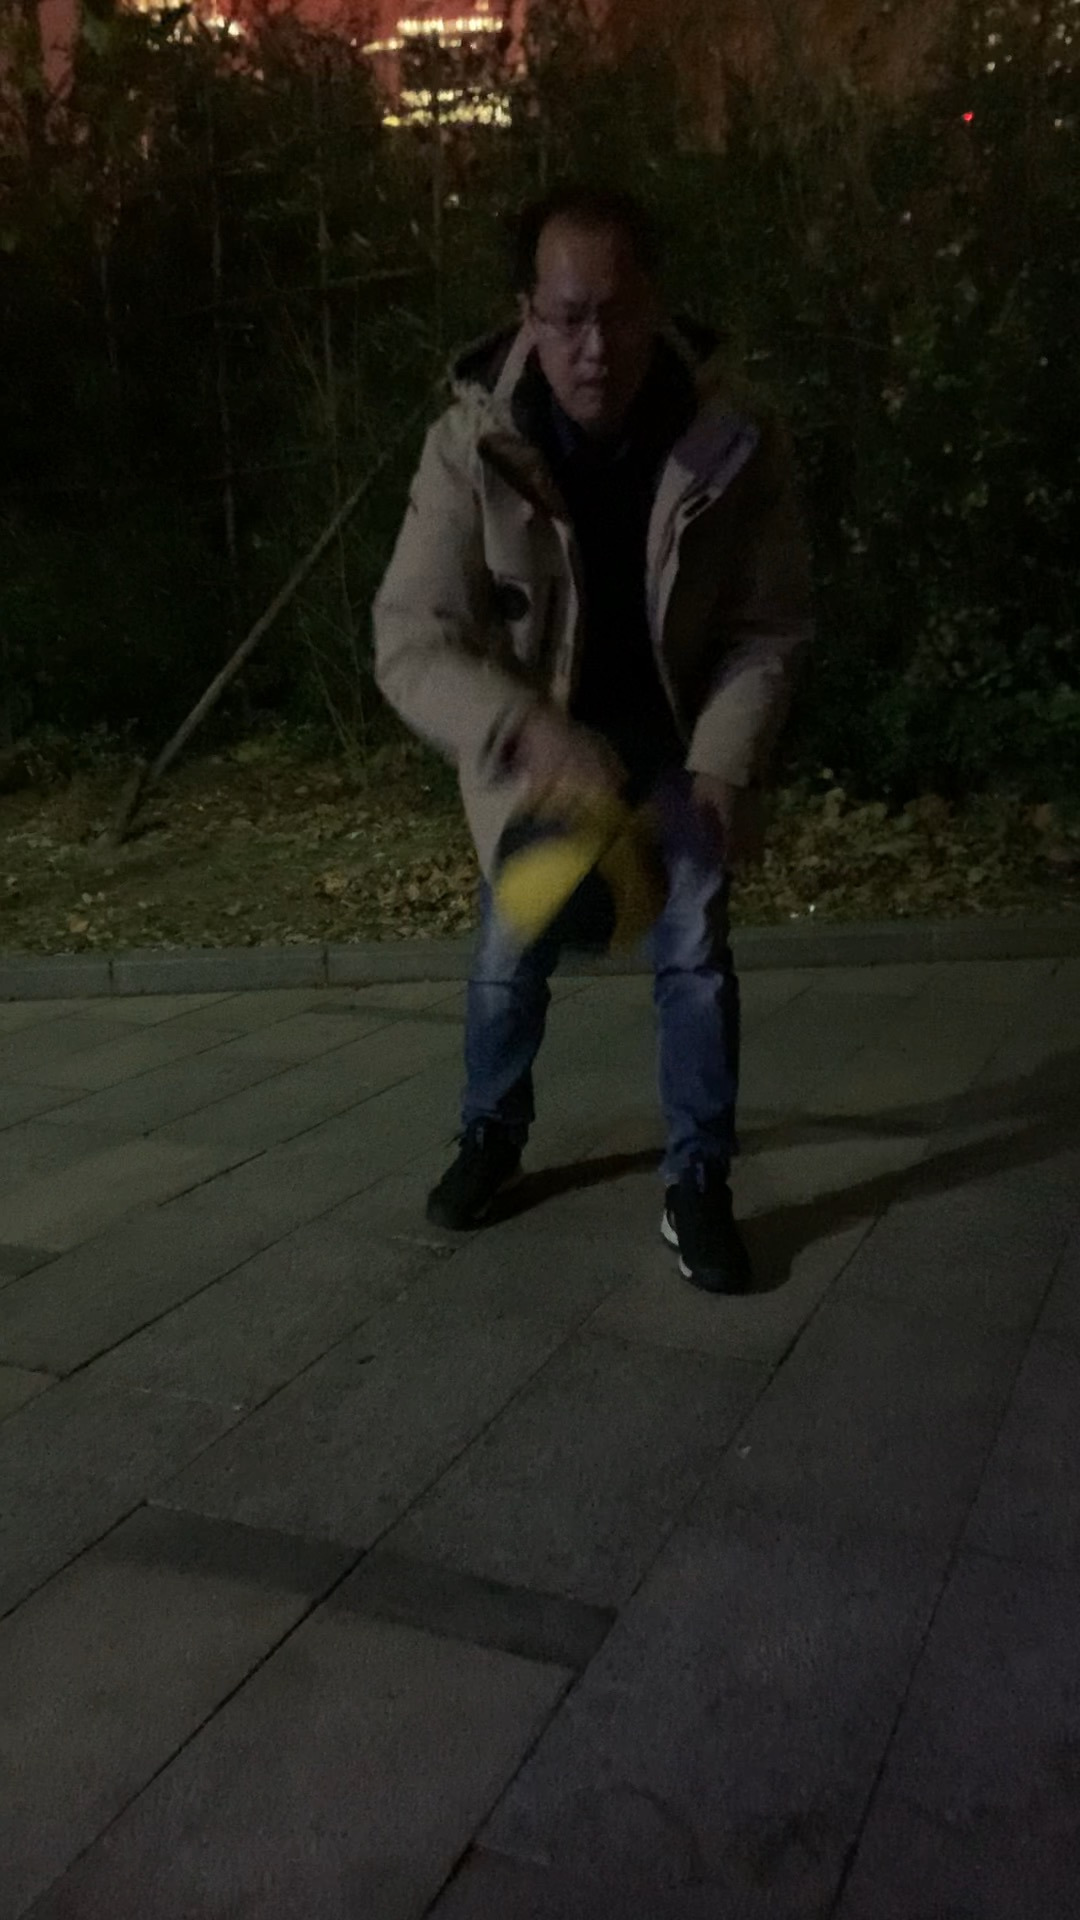ball: (493, 774, 679, 972)
